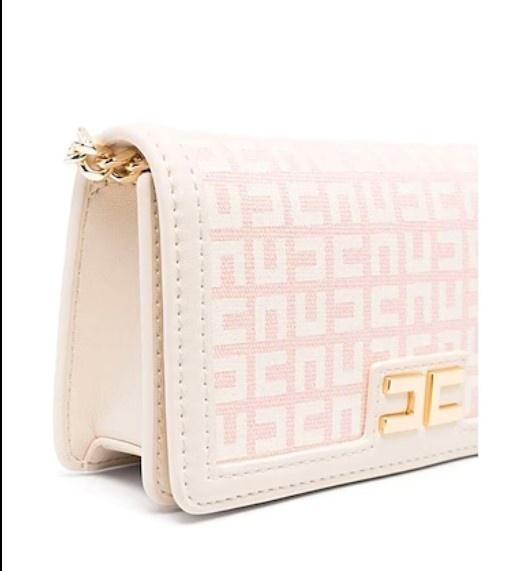ELISABETTA-FRANCHI: (366, 357, 472, 444)
